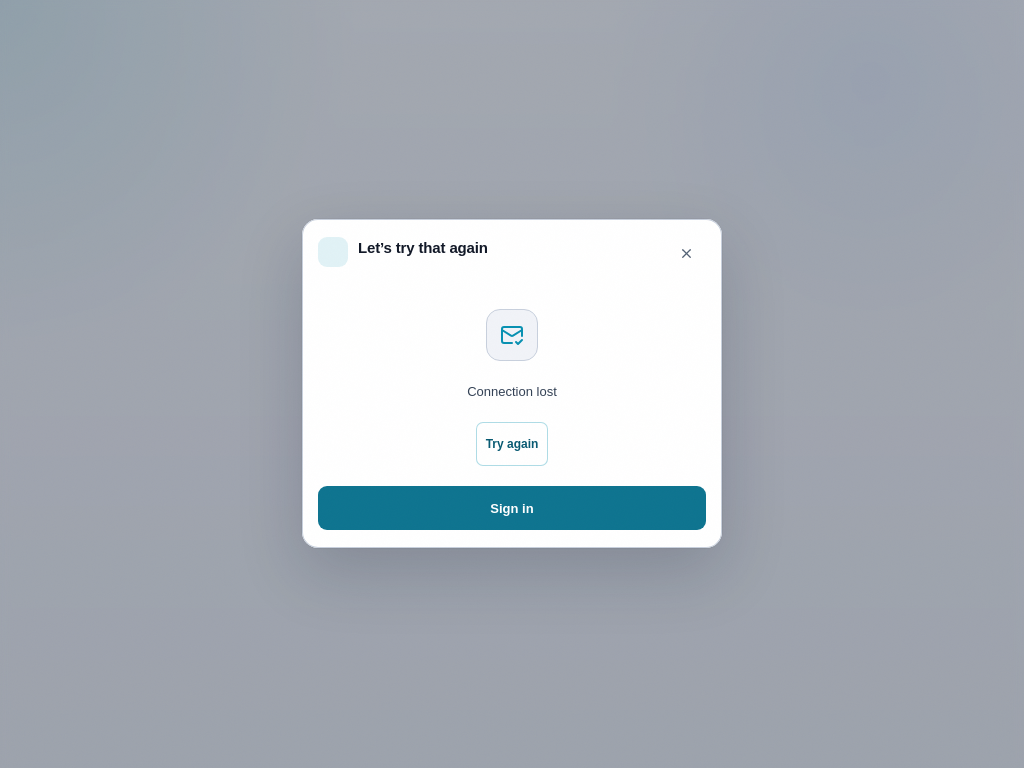
JoinDialog › offers retry when invite checking fails
Click the button "Try again". click: (512, 445)
box: [476,423,548,467]
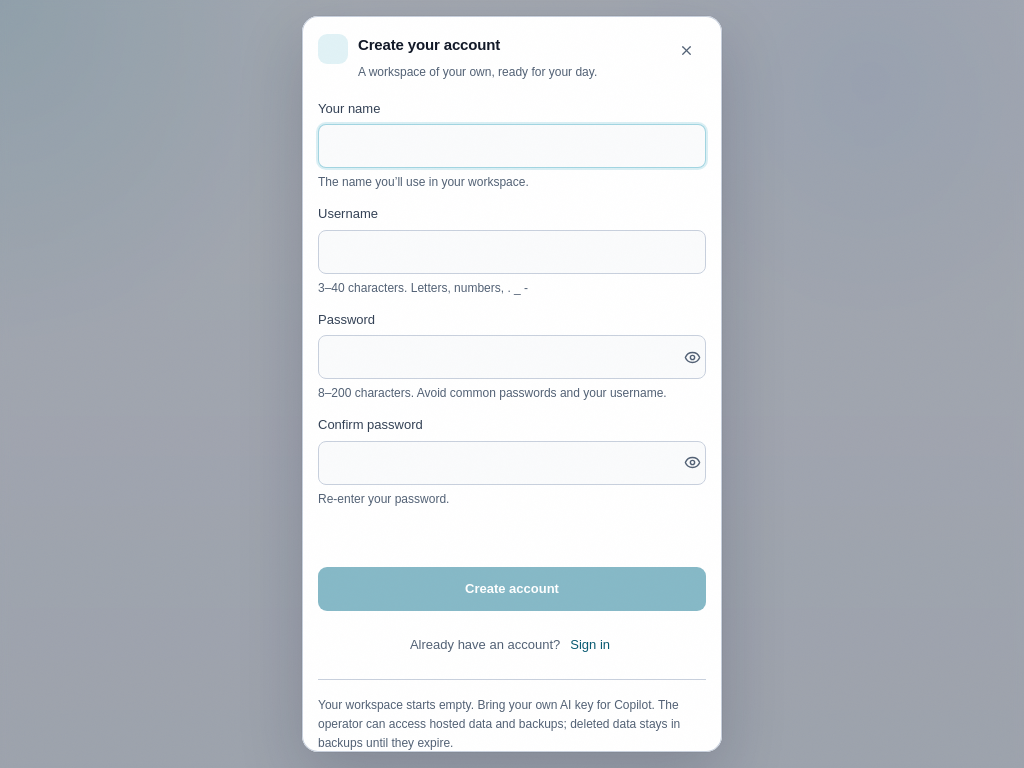
Check: the field labelled "Your name" is shown, box [318,124,706,168]
